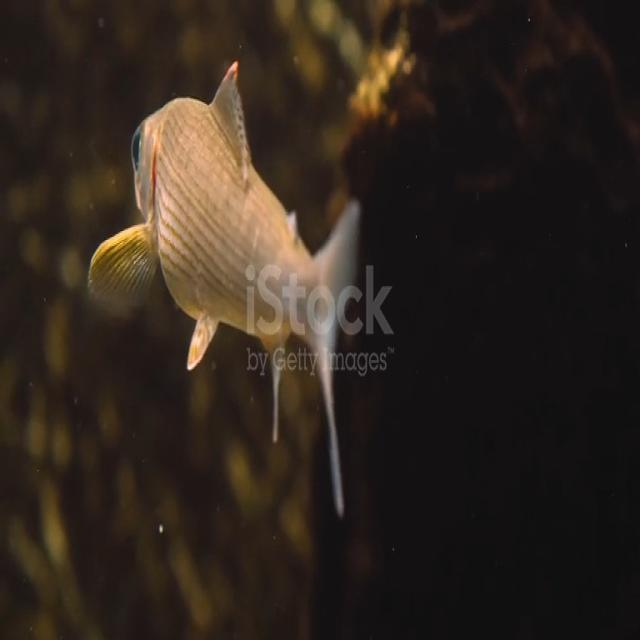fish: (87, 57, 360, 511)
